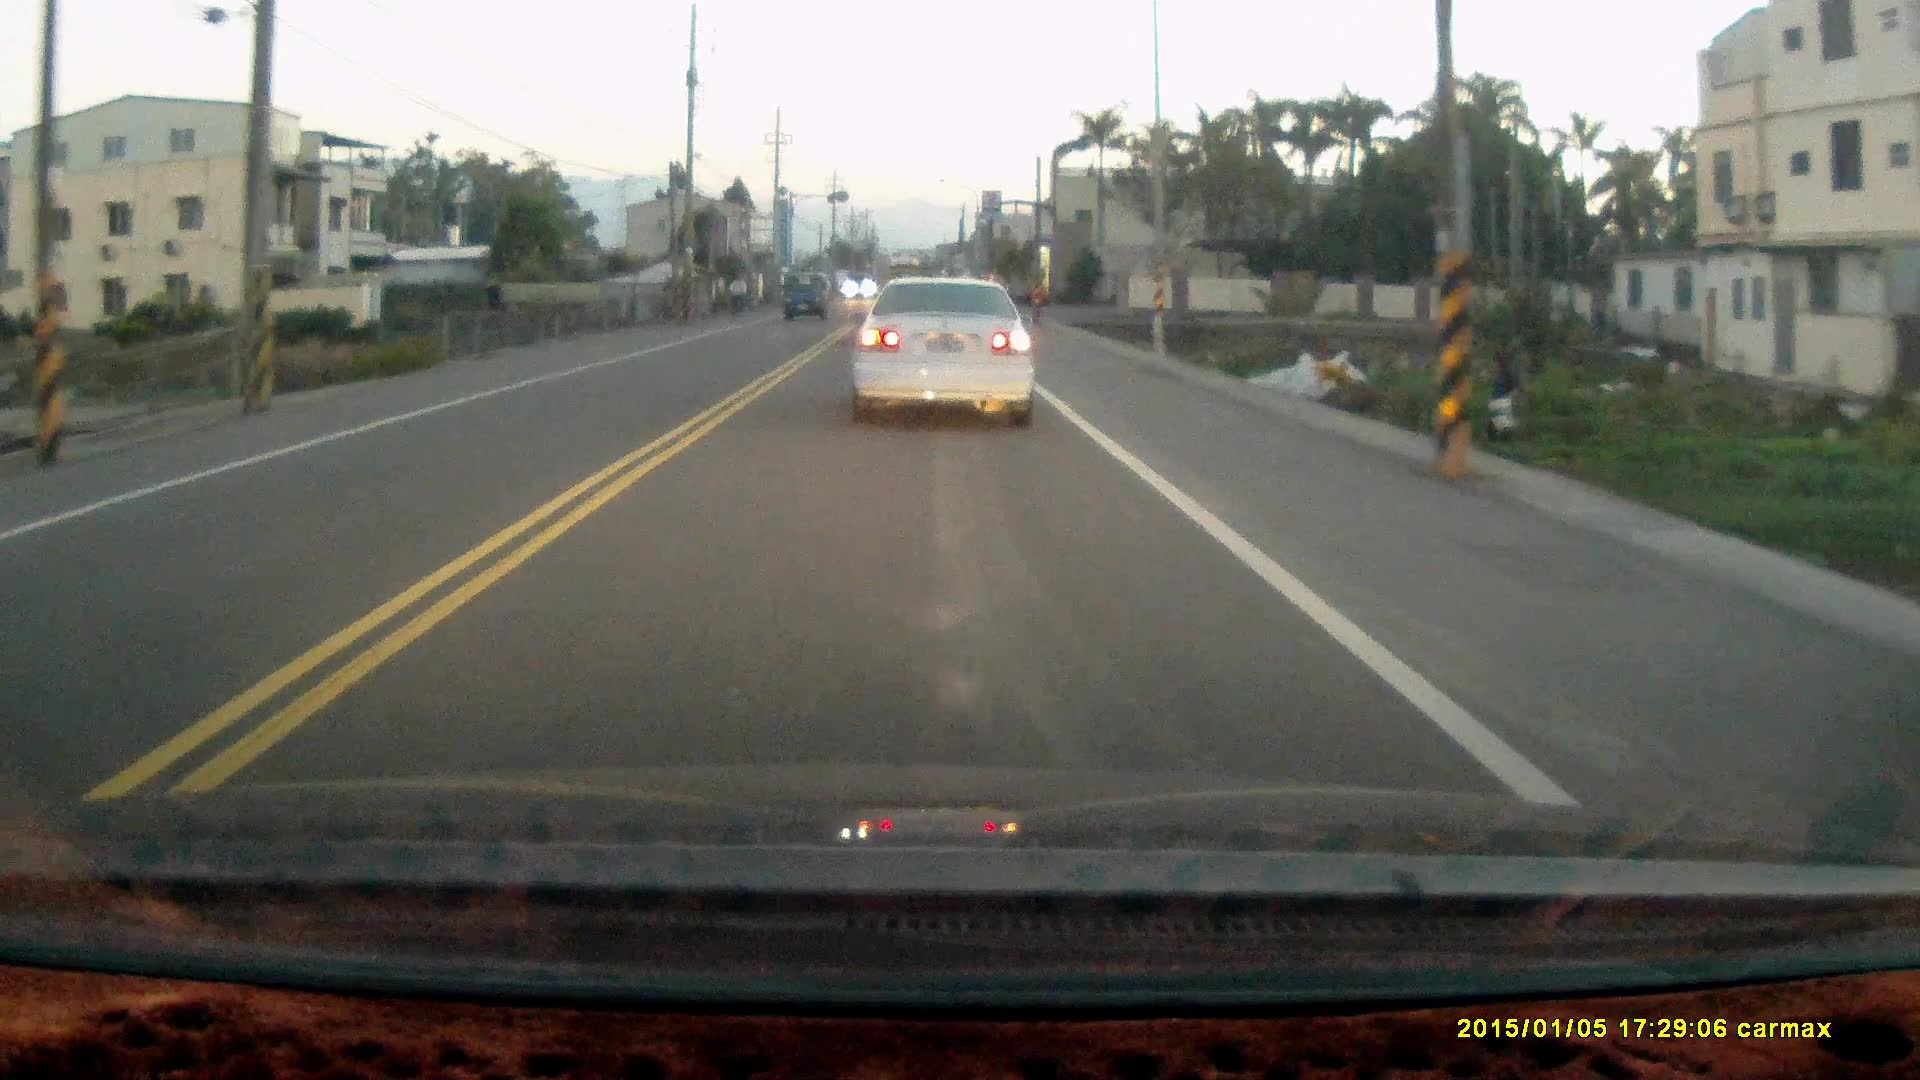pedestrian: (1484, 355, 1522, 449)
rider: (725, 268, 746, 317)
vehicle: (852, 290, 1042, 432), (785, 272, 835, 325)
